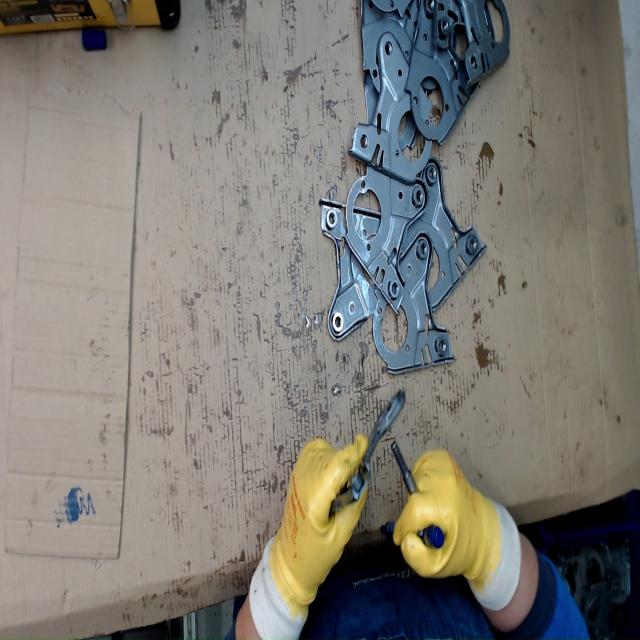hands: (272, 434, 369, 610), (391, 446, 496, 582)
